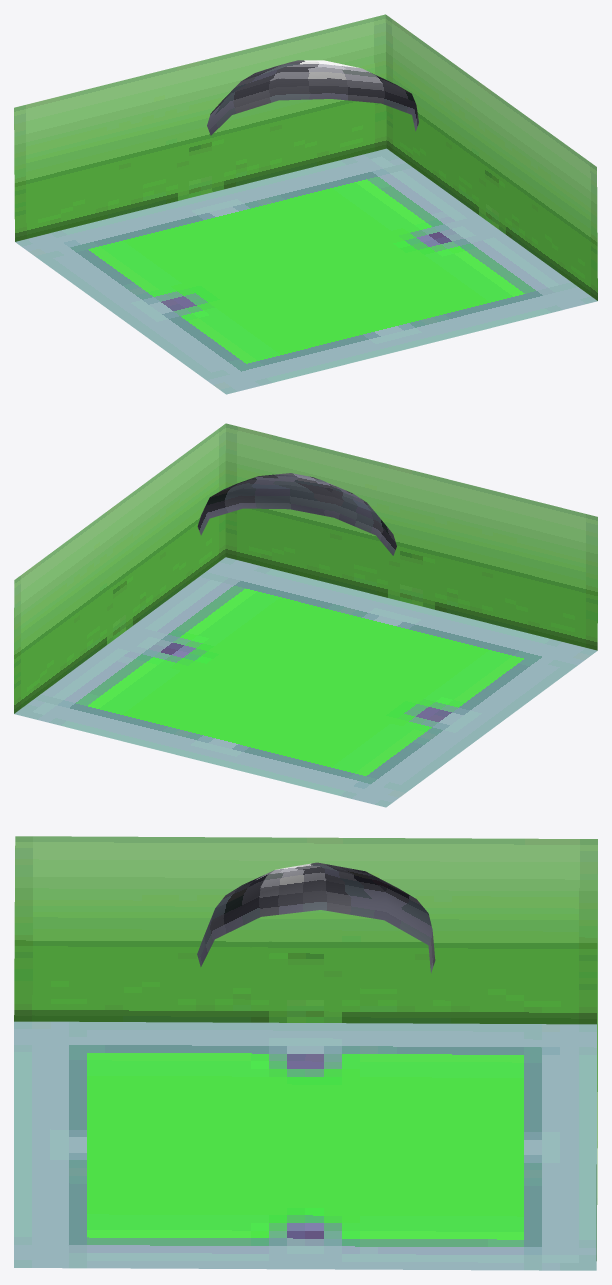
File: ps2_save-icons_mercurymeltdownremix-ghost.glb
The picture shows the model from 3 angles, top to bottom: view 1: azimuth 30°, elevation 25°; view 2: azimuth 150°, elevation 25°; view 3: azimuth 270°, elevation 25°; orthographic projection. The views are drawn at different scales.
Visible parts, largest first — view 1: ps2mc2.ico; view 2: ps2mc2.ico; view 3: ps2mc2.ico.
Boxes of the visible parts, bbox=[...] form: ps2mc2.ico: bbox=[14, 14, 597, 394]; ps2mc2.ico: bbox=[14, 423, 597, 807]; ps2mc2.ico: bbox=[14, 836, 597, 1270].
Bounding box in the file's own units: 2.25 × 1.15 × 2.22.
1 material, 1 textured.
